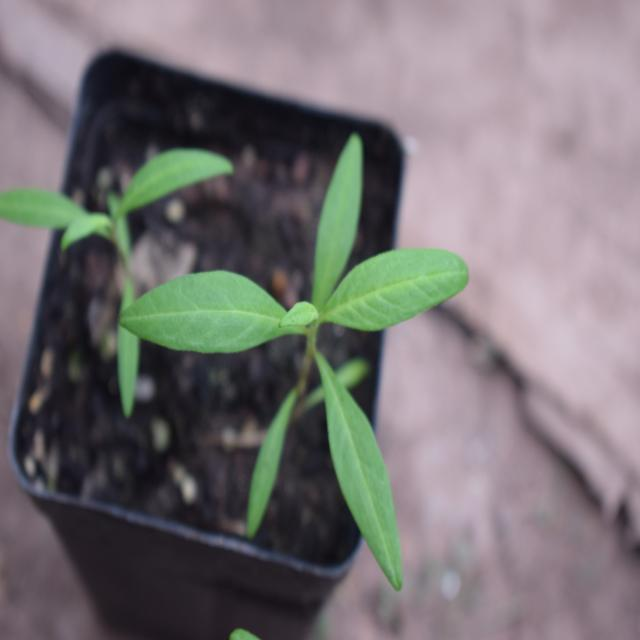white_smart_weed: (133, 153, 475, 619)
